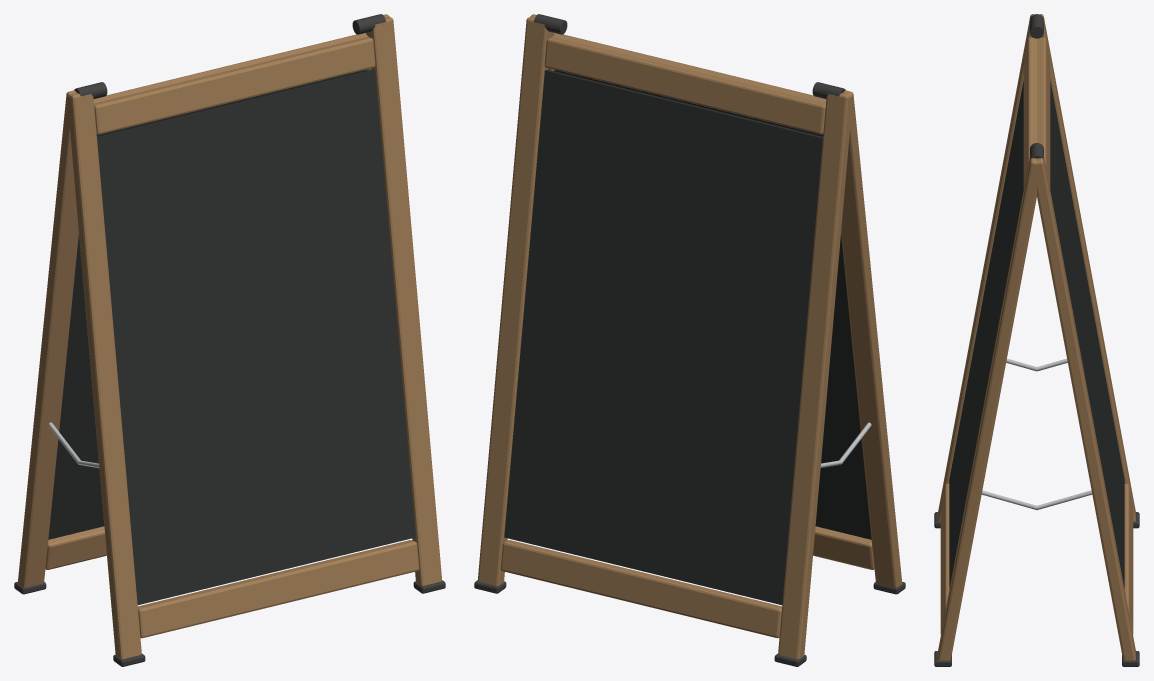
File: city-a-frame-sidewalk-sign.glb
The picture shows the model from 3 angles, left to right: view 1: azimuth 30°, elevation 25°; view 2: azimuth 150°, elevation 25°; view 3: azimuth 270°, elevation 25°; orthographic projection. The views are drawn at different scales.
Parts seen in each view (by area): view 1: Assembly | Matte black chalkboard, Assembly | Oiled oak frame, Assembly | Black steel hinge; view 2: Assembly | Matte black chalkboard, Assembly | Oiled oak frame, Assembly | Black steel hinge; view 3: Assembly | Oiled oak frame, Assembly | Matte black chalkboard, Assembly | Black steel hinge, Assembly | Zinc spreader chain.
Boxes of the visible parts, <box> form: Assembly | Matte black chalkboard: <box>48,69,415,605</box>; Assembly | Oiled oak frame: <box>17,14,442,659</box>; Assembly | Black steel hinge: <box>14,14,445,666</box>; Assembly | Matte black chalkboard: <box>504,69,871,605</box>; Assembly | Oiled oak frame: <box>477,14,902,659</box>; Assembly | Black steel hinge: <box>474,14,905,666</box>; Assembly | Oiled oak frame: <box>938,14,1135,660</box>; Assembly | Matte black chalkboard: <box>949,81,1124,588</box>; Assembly | Black steel hinge: <box>934,14,1139,666</box>; Assembly | Zinc spreader chain: <box>981,358,1092,509</box>.
Bounding box in the file's own units: 0.605 × 0.9582 × 0.35.
